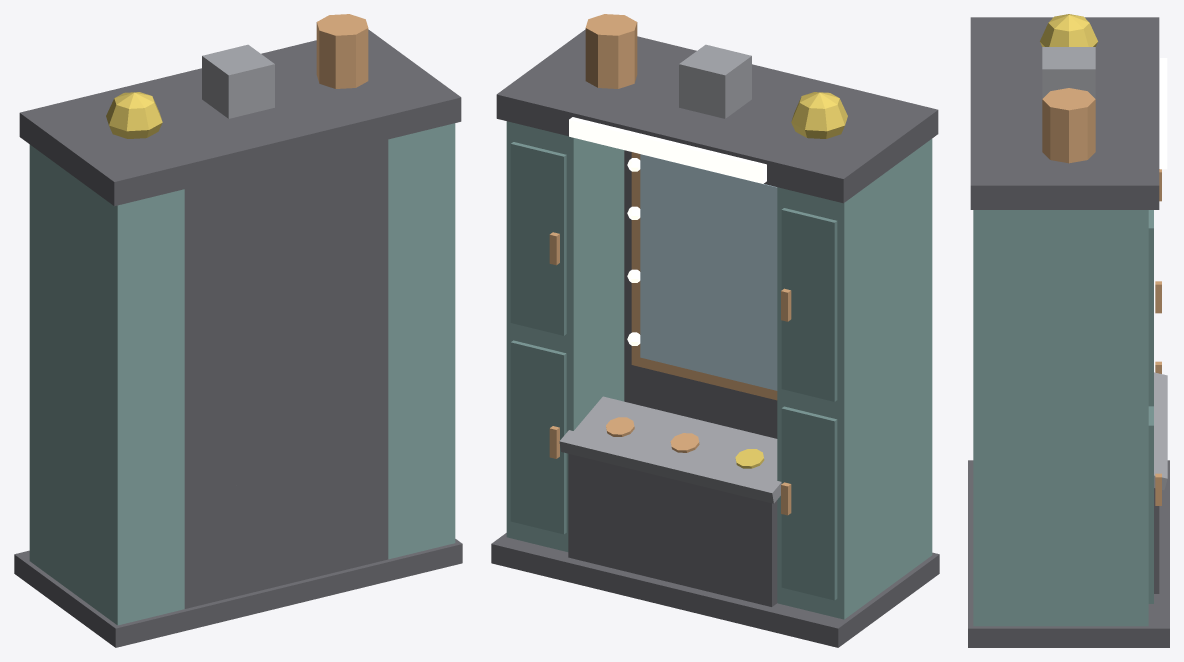
Rendered from dwarf_wardrobe.glb.
3 renders of one model, left to right at view 1: azimuth 30°, elevation 25°; view 2: azimuth 150°, elevation 25°; view 3: azimuth 270°, elevation 25°, orthographic.
Visible parts, largest first — view 1: DwarfWardrobe; view 2: DwarfWardrobe; view 3: DwarfWardrobe.
Part boxes in pixels (x1,y1,x2,y2): DwarfWardrobe: (14,14,462,647); DwarfWardrobe: (491,14,939,647); DwarfWardrobe: (968,14,1169,647).
Size of the model in its own units: 1.5 by 2.14 by 0.76.
